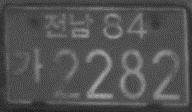2: (151, 47, 181, 101), (85, 48, 114, 100), (53, 48, 80, 99)
4: (126, 11, 147, 38)
8: (119, 47, 147, 99), (101, 11, 123, 38)
가: (12, 47, 43, 84)
전남_O: (43, 11, 93, 38)
